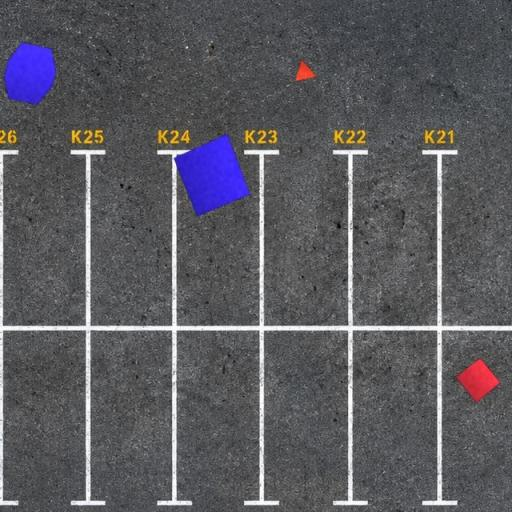BLUE_SQUARE: (173, 133, 251, 217)
RED_SQUARE: (454, 357, 501, 404)
